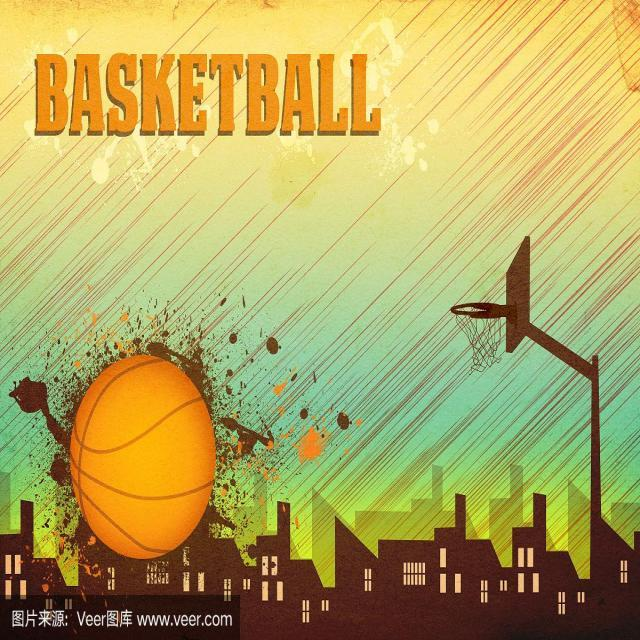rim: (66, 356, 216, 560)
